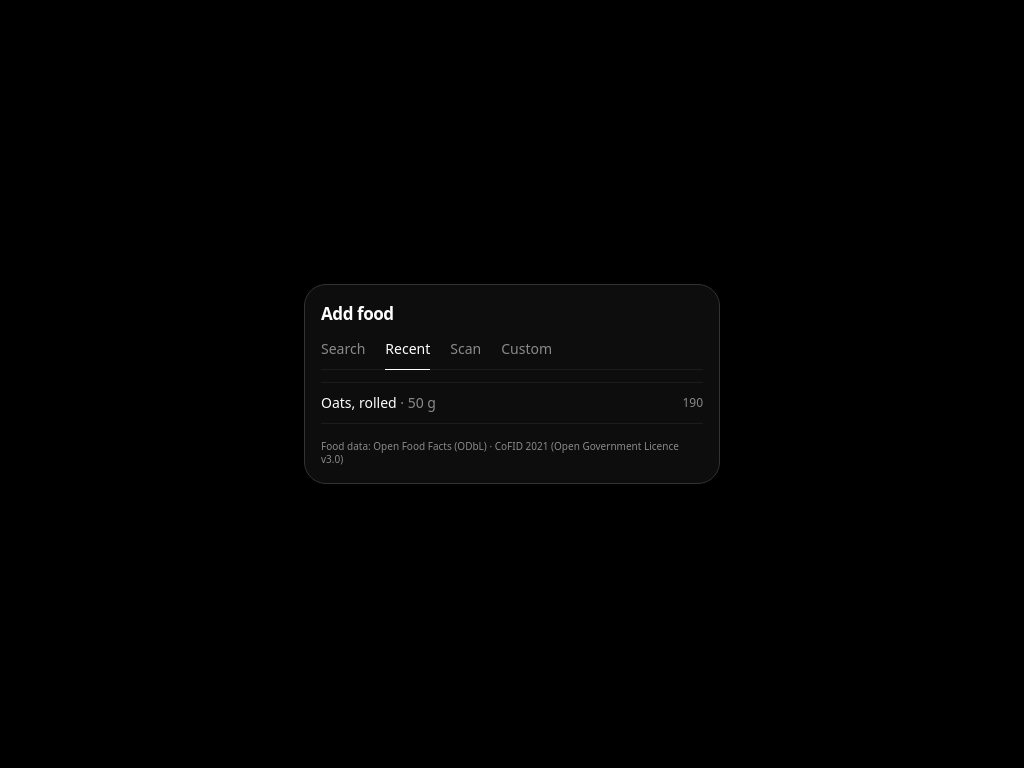
AddFoodSheet › re-logs a recent food at the amount last used
What coordinates should you click on to do the following:
click the tab "Recent"
I would click on:
 (408, 354)
Its box is [385,338,430,370].
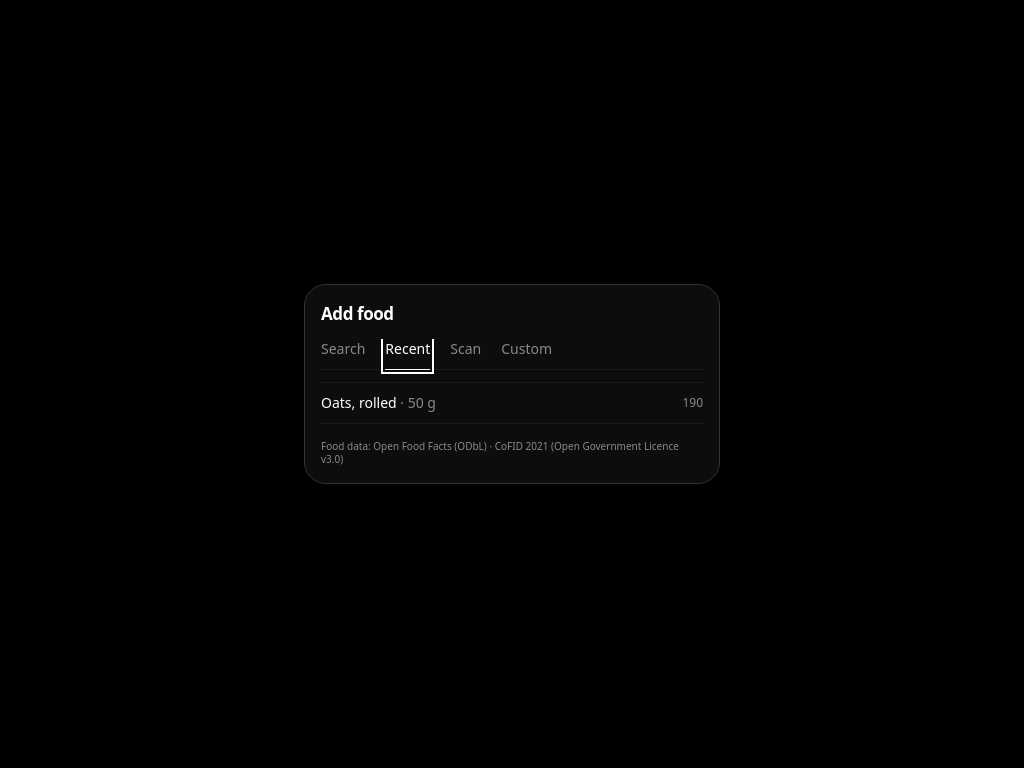
What coordinates should you click on to do the following:
click the text "Oats, rolled"
I would click on:
 (359, 402)
Its box is [321,392,397,412].
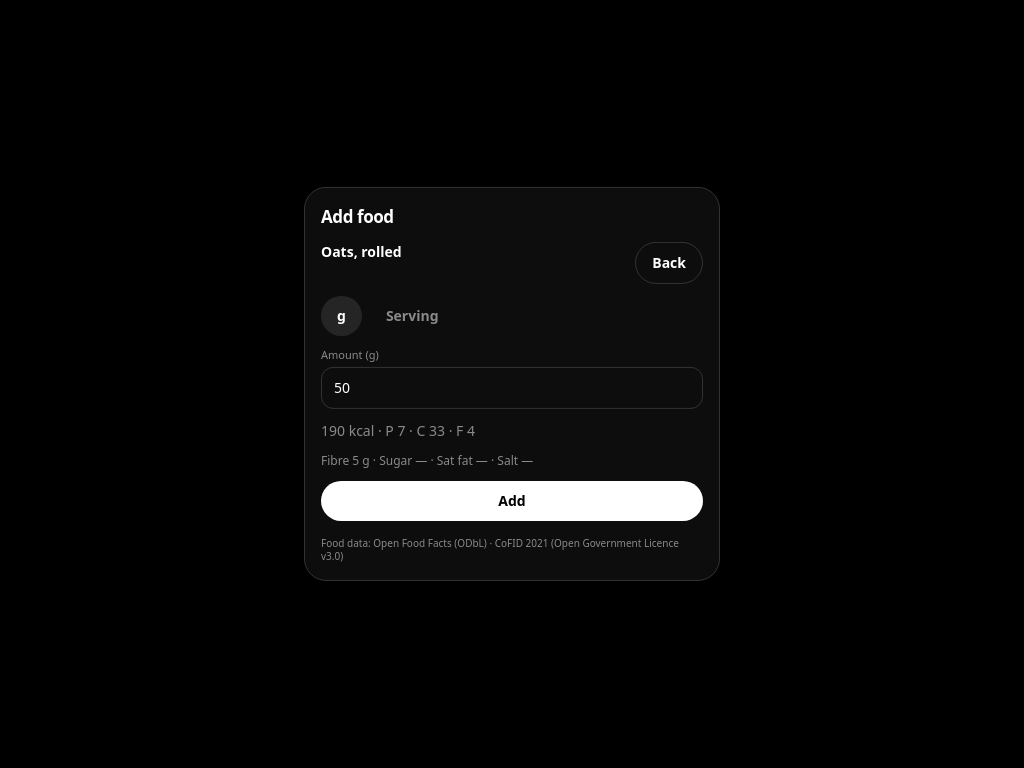
Now the field labelled "Amount (g)" holds "50", box [321,367,703,409]
